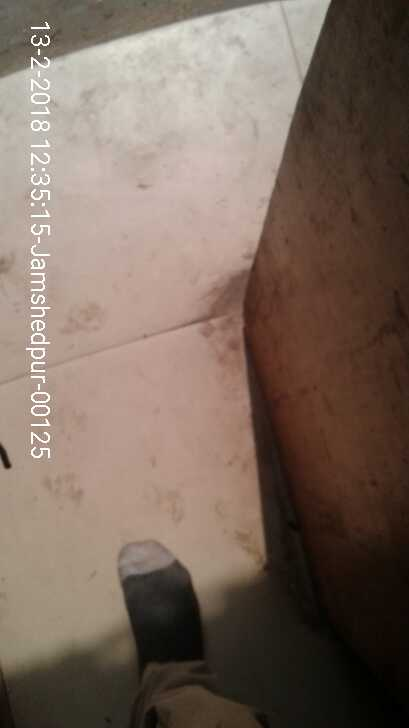reject: (101, 294, 208, 393)
